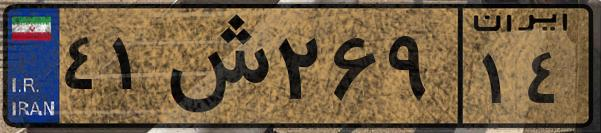1: (475, 38, 525, 113), (110, 28, 158, 98)
2: (270, 28, 330, 110)
4: (57, 26, 110, 100), (525, 38, 570, 115)
6: (330, 28, 385, 110)
9: (385, 28, 445, 110)
ش: (158, 12, 270, 120)
